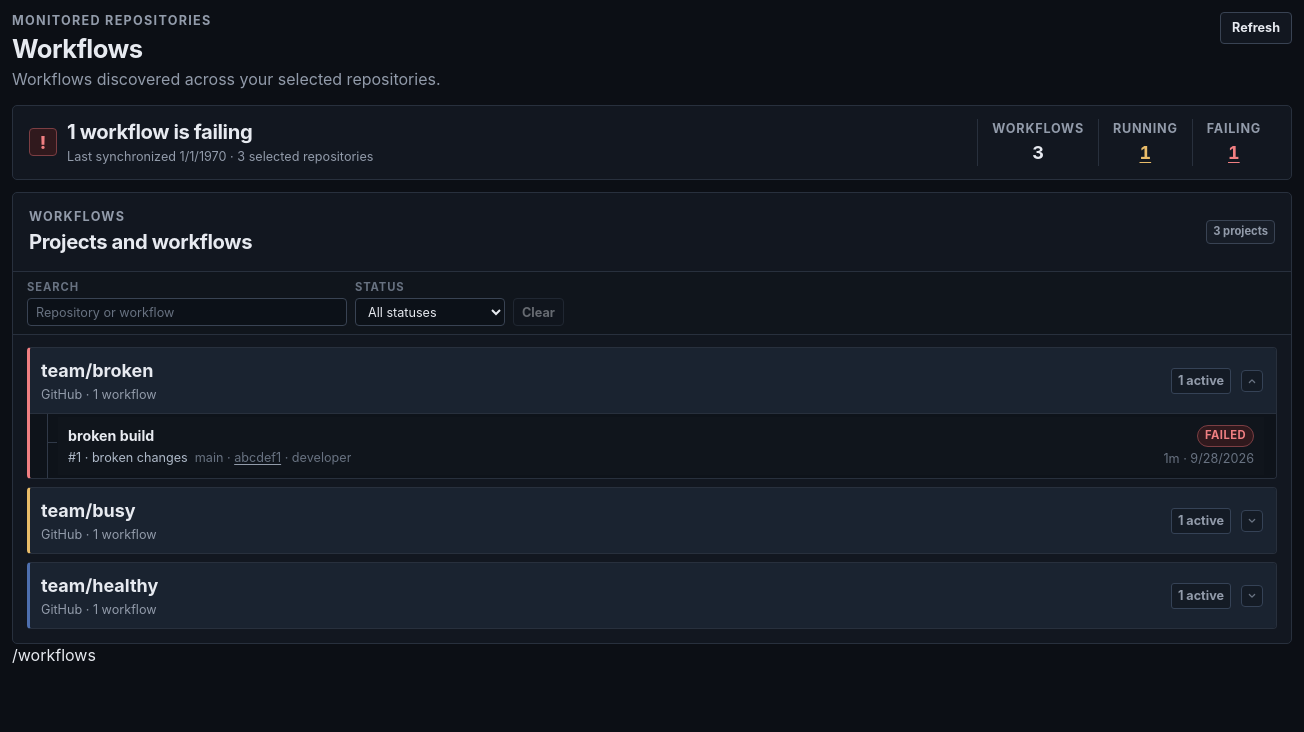
WorkflowsPage › filters via the failing total and persists the filter in the URL
What coordinates should you click on to do the following:
click the 2nd button "1"
I would click on:
 (1234, 152)
Its box is [1228,140,1240,165].
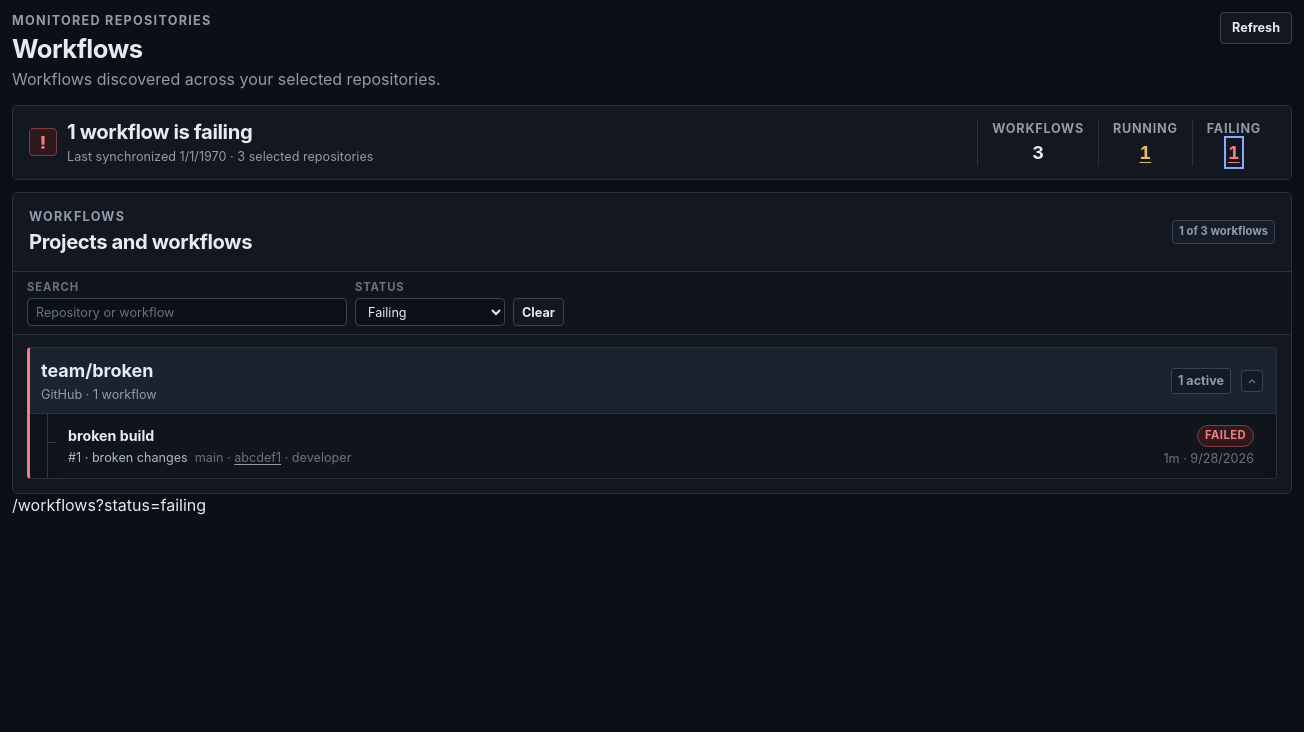
Now the dropdown labelled "Status" shows "Failing", box [355,298,505,326]
Now the text named "Current location" reads "/workflows?status=failing", box [12,496,206,516]
Now the heading "team/healthy" is gone
What coordinates should you click on to do the following:
click the button "Clear"
I would click on:
 (538, 312)
Its box is [513,298,564,326].
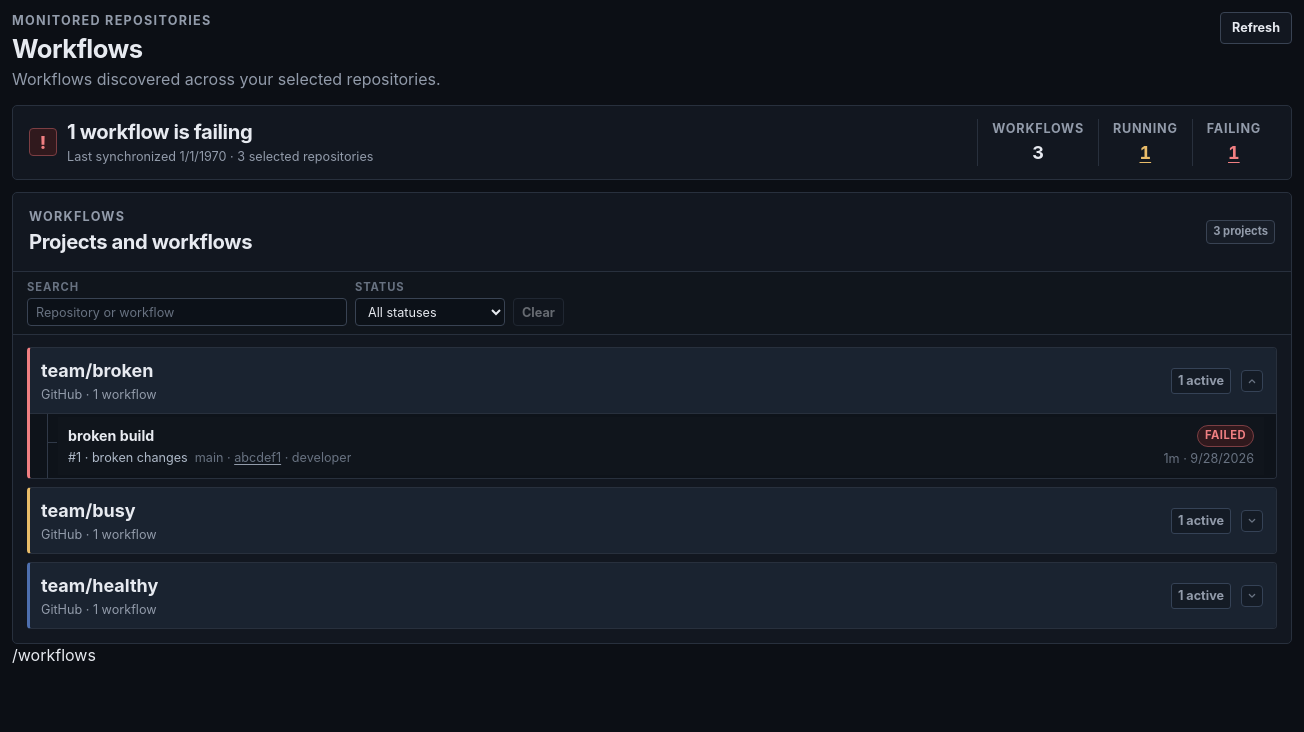
Now the heading "team/healthy" is shown, box [41,573,158,598]
Now the text named "Current location" reads "/workflows", box [12,645,96,665]
